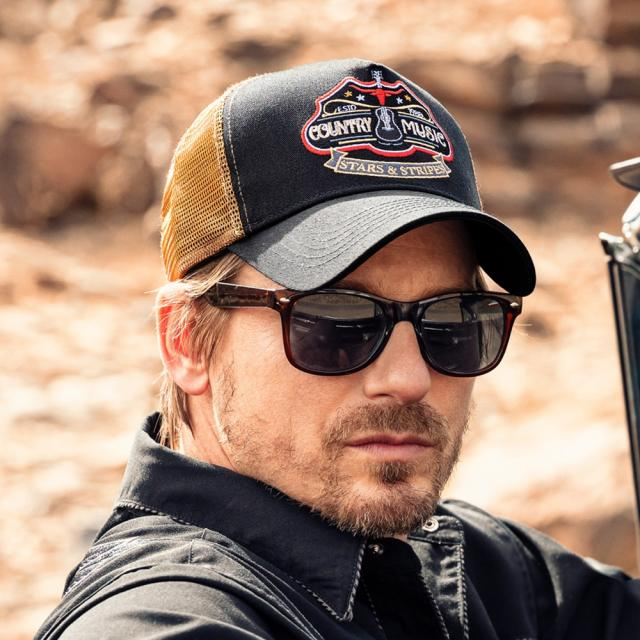Cap: (119, 57, 568, 290)
